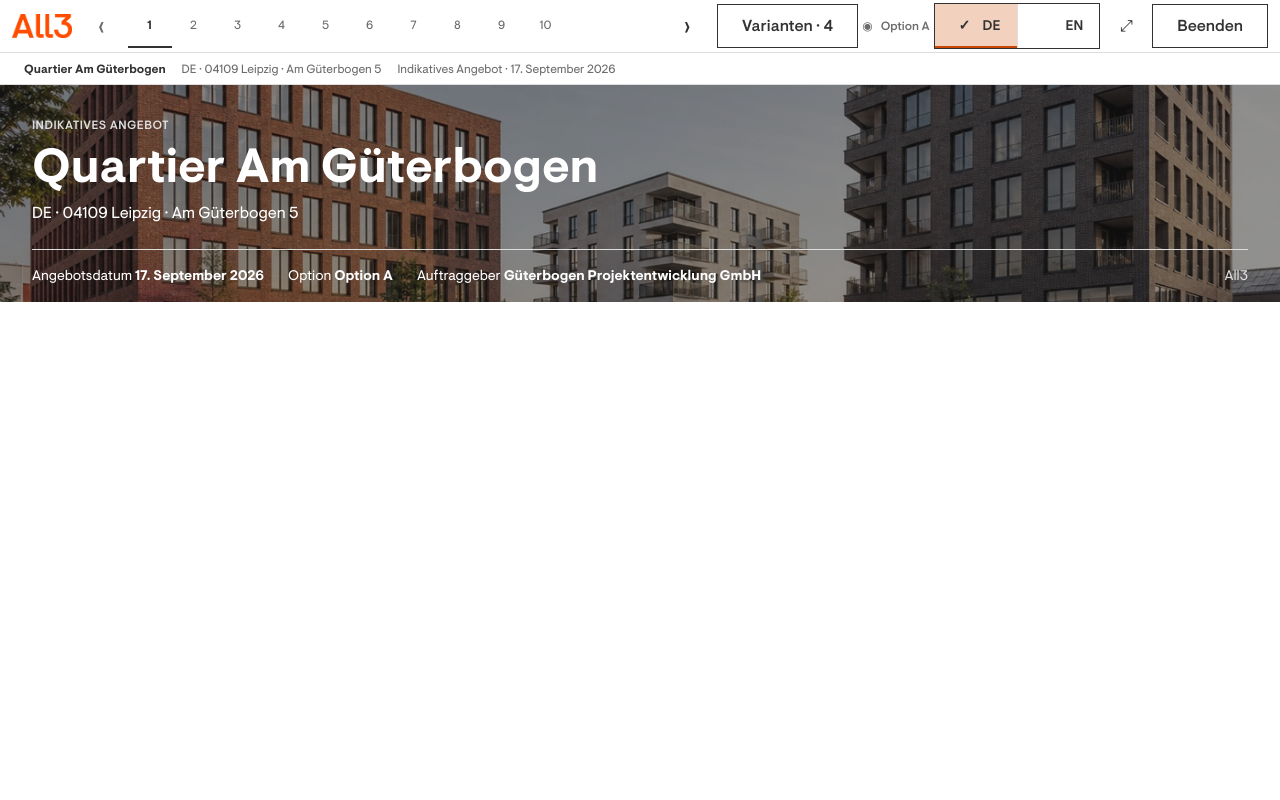
Test: VR3-05 · the client stage states one number per Option › above three Options the Varianten layer offers a participant picker, and a picked Option is presented with its SAVED total
The width and height of the screenshot is (1280, 800).
Click the button "2": coordinates (194, 26) 172,4 -> 216,48
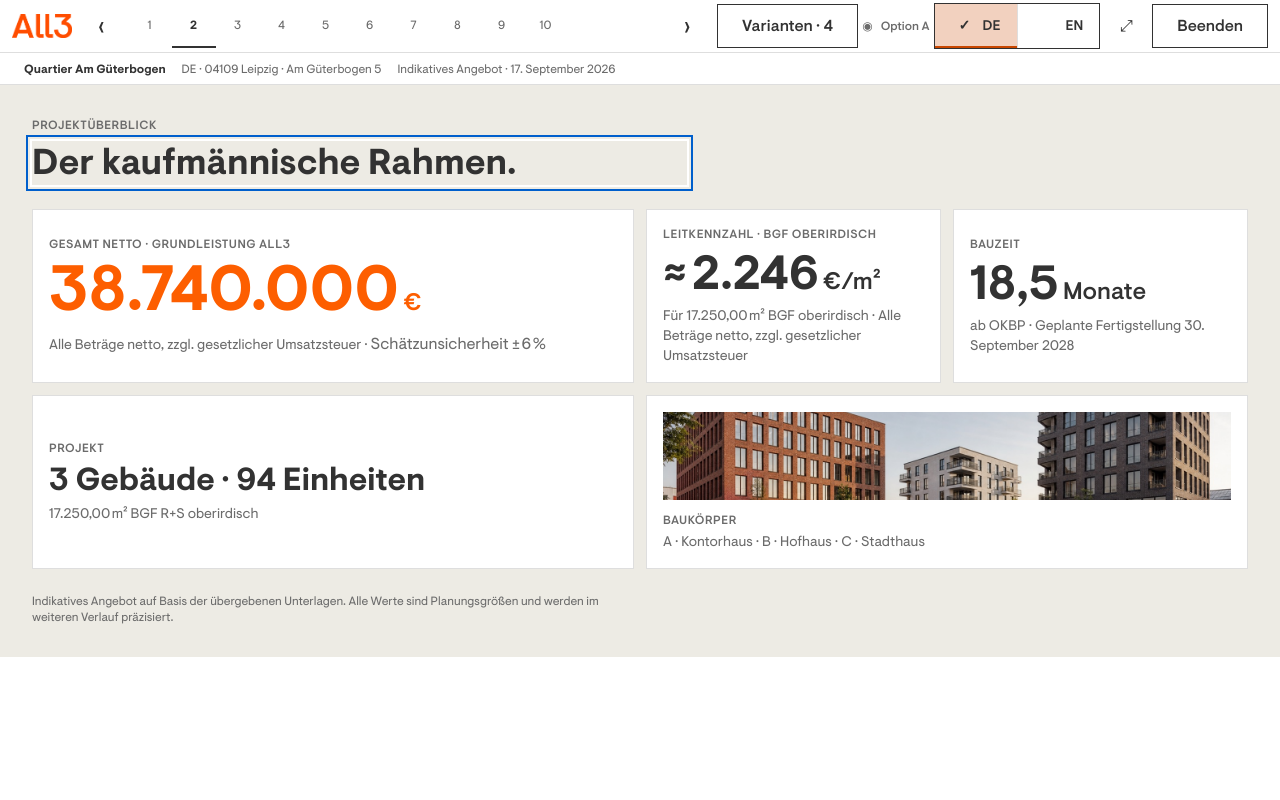
Expected: the element "Projektüberblick" is shown
Click the button "Varianten · 4": coordinates (788, 26) 717,4 -> 858,48
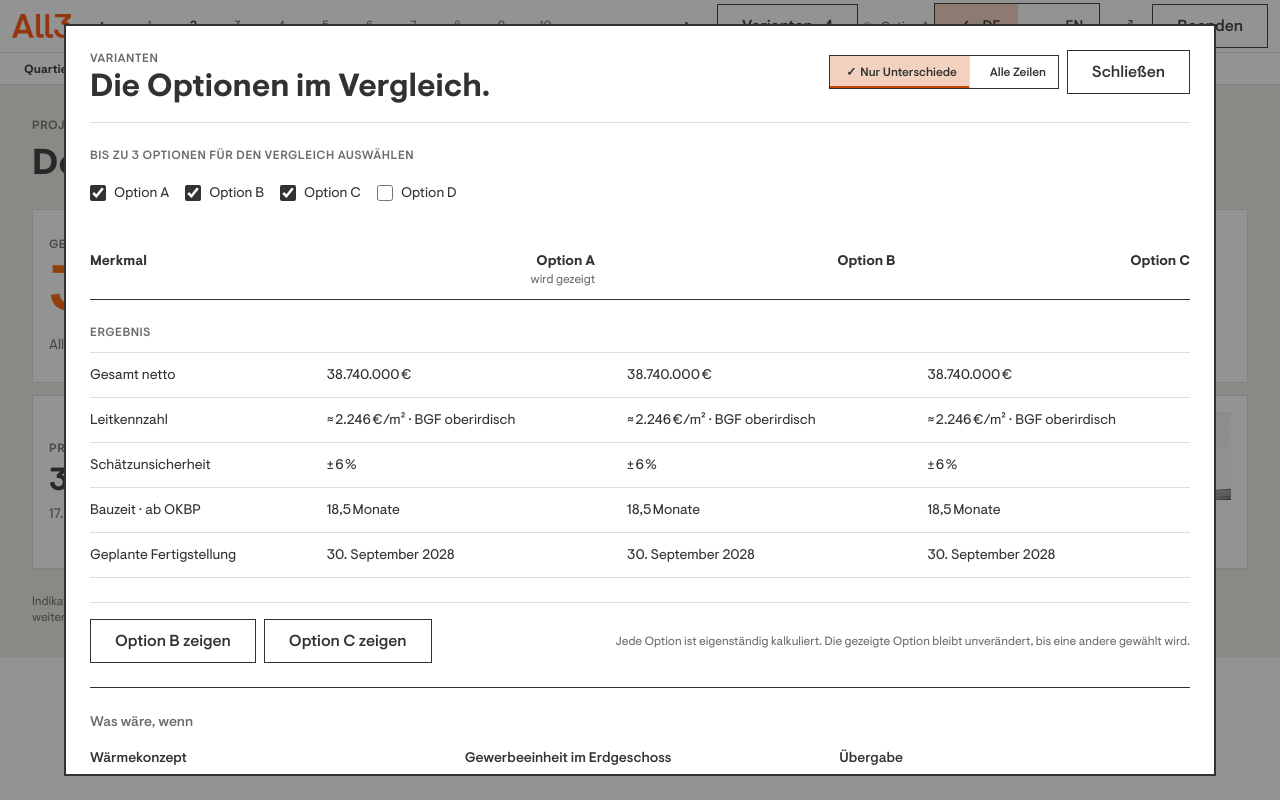
Expected: the button "Option D zeigen" is not shown
Expected: the number of checkboxes is 4
Click the checkbox labelled "Option D": coordinates (385, 193) 377,185 -> 393,201
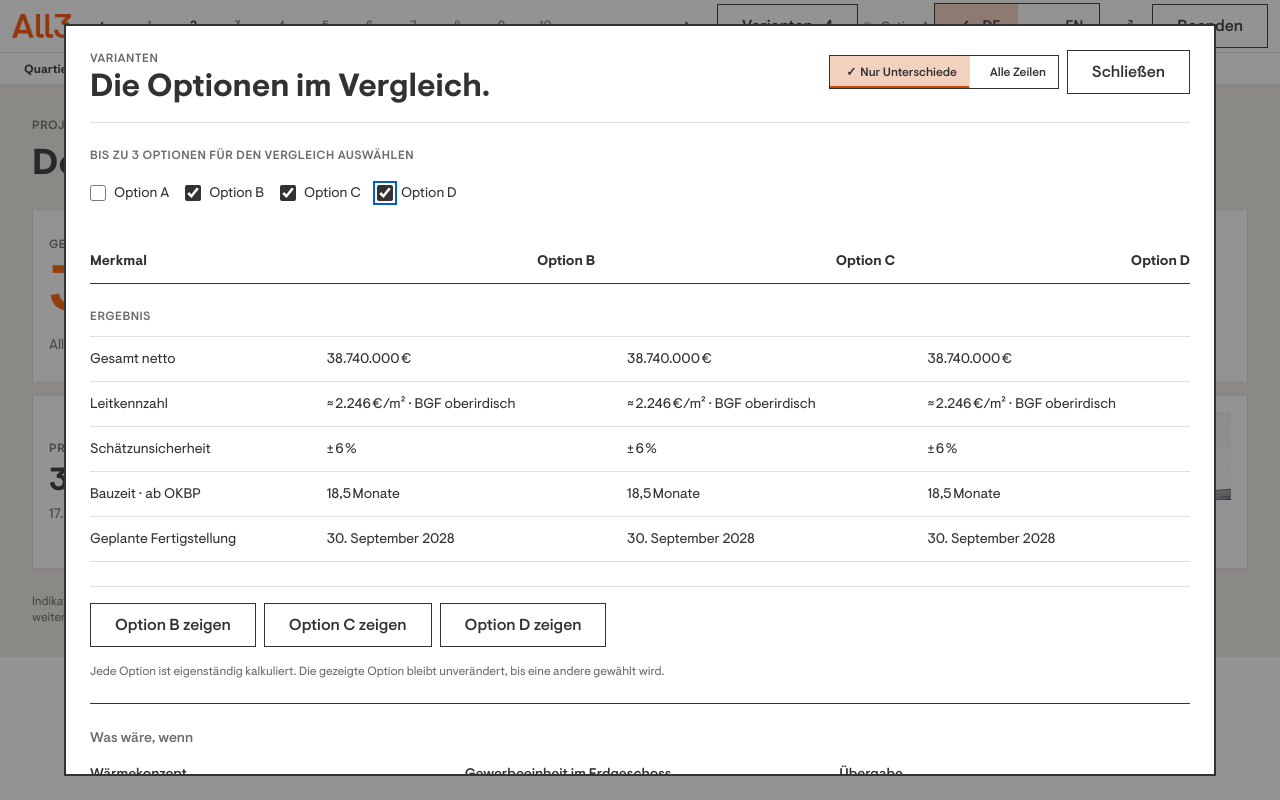
Click the button "Option D zeigen": coordinates (523, 625) 440,603 -> 606,647
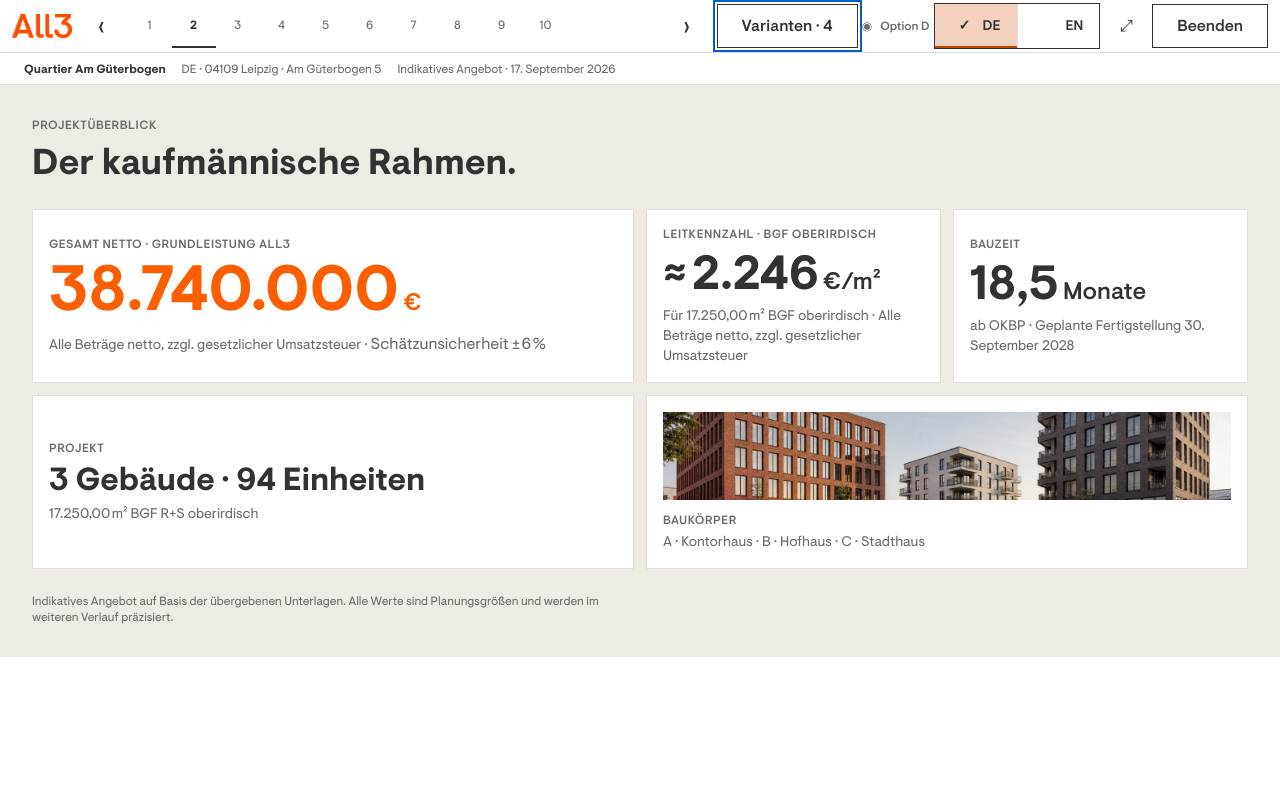
Expected: the dialog is gone
Expected: the message shows "Option D", 880,18 -> 930,34
